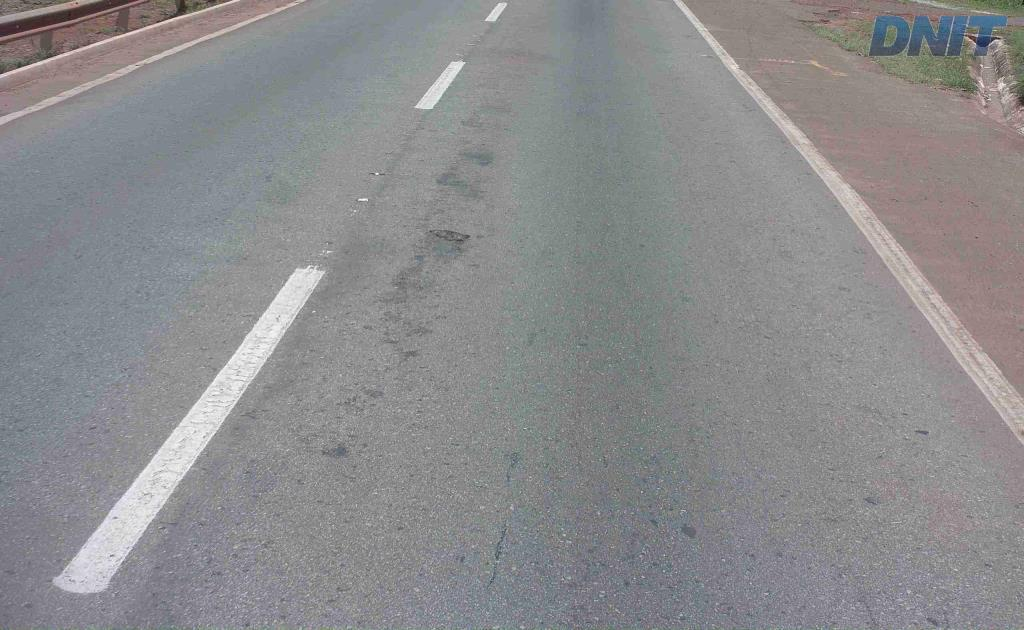crack: (430, 229, 470, 253)
pothole: (423, 225, 479, 244)
